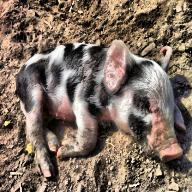boar: (14, 40, 183, 178)
